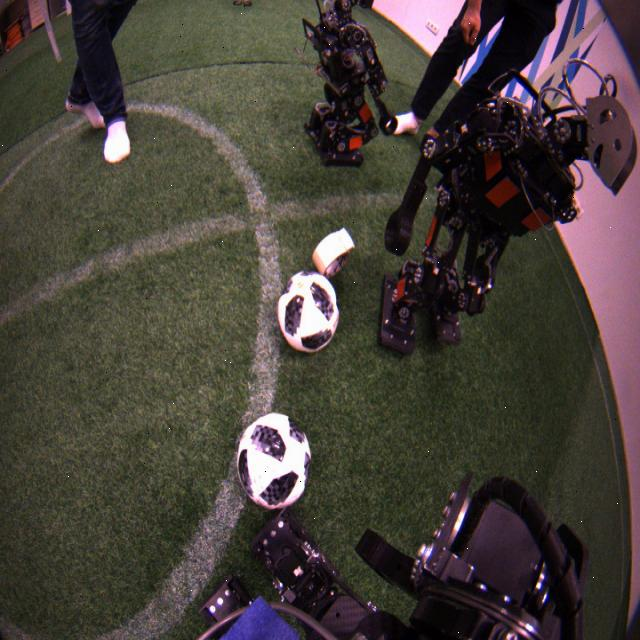ball: (237, 414, 310, 511), (277, 271, 339, 352)
